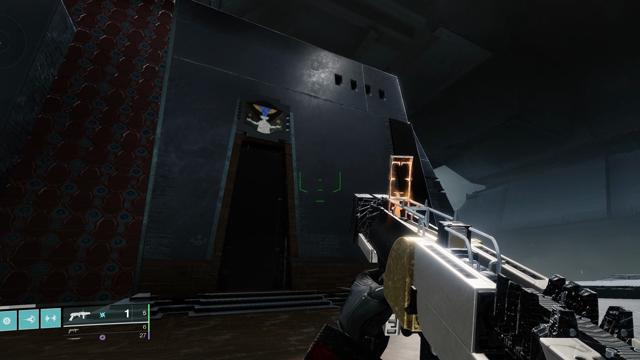drink: (243, 100, 284, 135)
